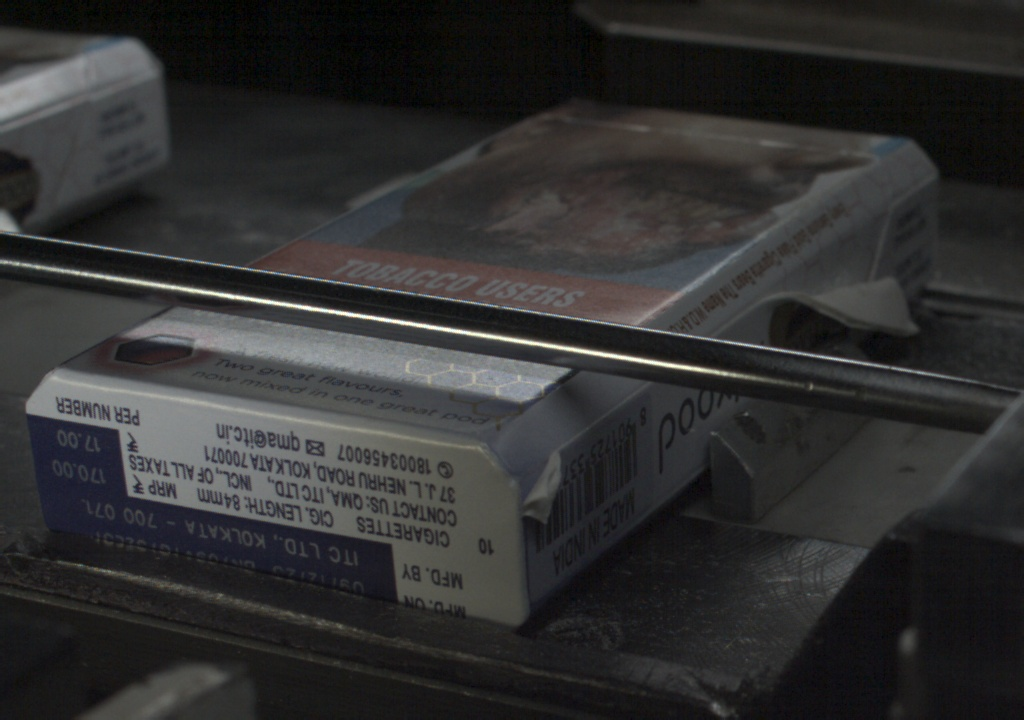g_bottom: (26, 369, 525, 627)
g_label: (33, 492, 398, 598)
g_lmiter: (582, 388, 646, 439)
g_miter: (890, 165, 937, 205)
ng_lmiter: (773, 234, 920, 337), (521, 446, 569, 530)
price: (31, 423, 124, 491)
